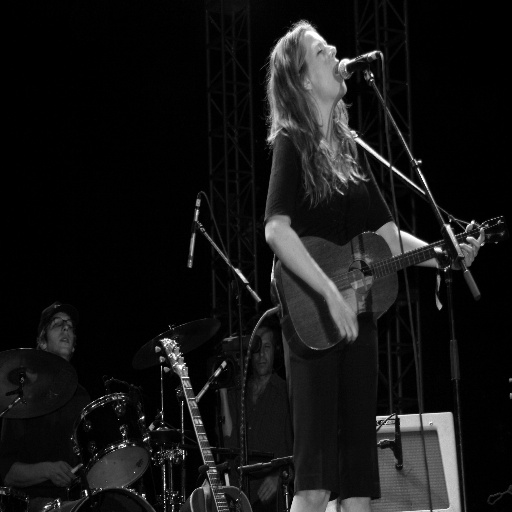hand: (271, 224, 356, 369), (455, 221, 485, 268), (257, 475, 279, 501)
